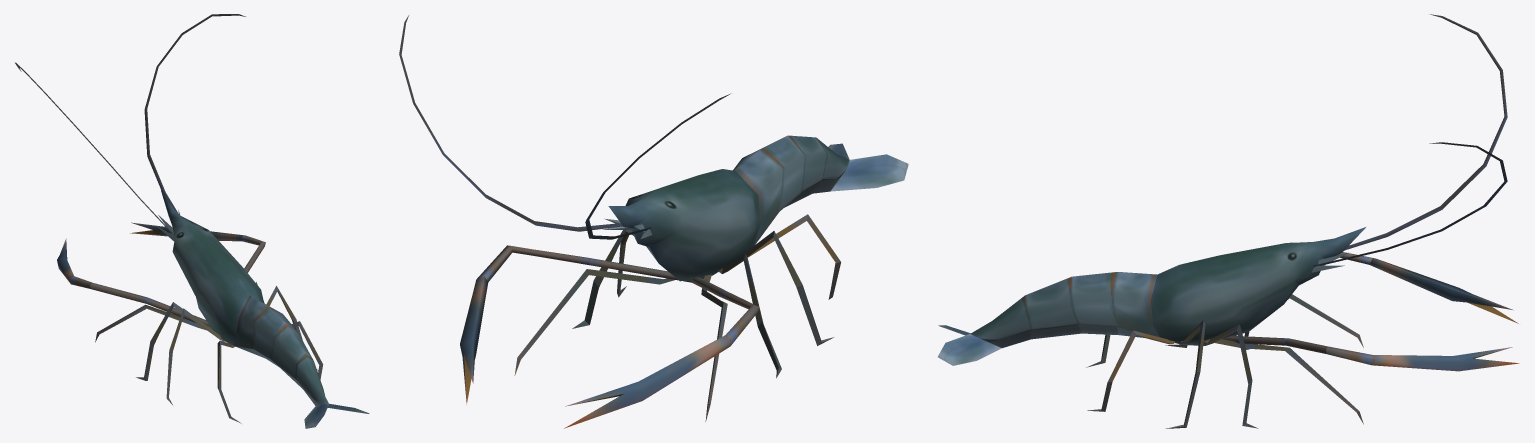
File: Shrimp.glb
3 views of the same model, side by side, from view 1: azimuth 30°, elevation 25°; view 2: azimuth 150°, elevation 25°; view 3: azimuth 270°, elevation 25° (orthographic). The views are drawn at different scales.
Parts seen in each view (by area): view 1: SM_Shrimp; view 2: SM_Shrimp; view 3: SM_Shrimp.
Boxes of the visible parts, x1,y1,x2,y2 form: SM_Shrimp: [15, 14, 369, 428]; SM_Shrimp: [399, 15, 908, 428]; SM_Shrimp: [937, 14, 1519, 428].
Bounding box in the file's own units: 0.3461 × 0.3864 × 0.6578.
1 material, 1 textured.
